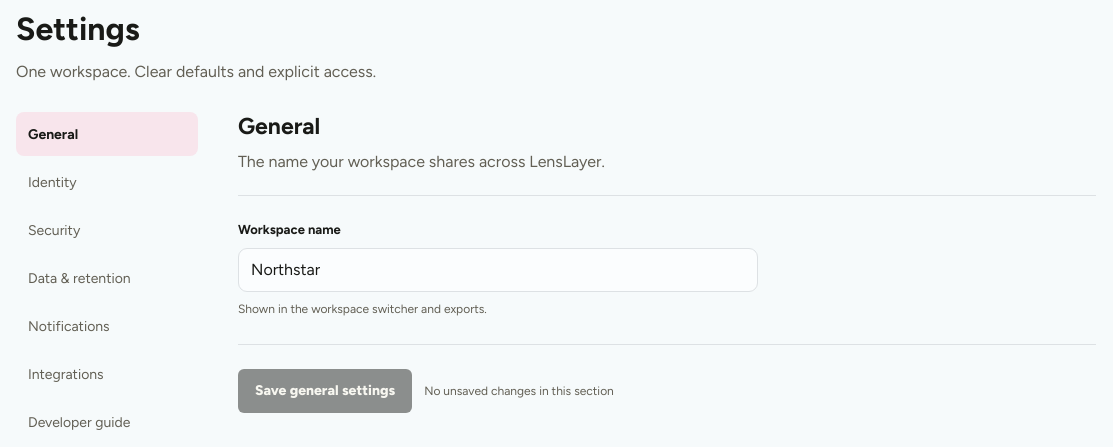
Test: section-scoped drafts and writes › a save response cannot discard a newer edit made while it was pending
Replace the text in the field labelled "Workspace name" with "Submitted" at (498, 270), box [238, 248, 758, 292]
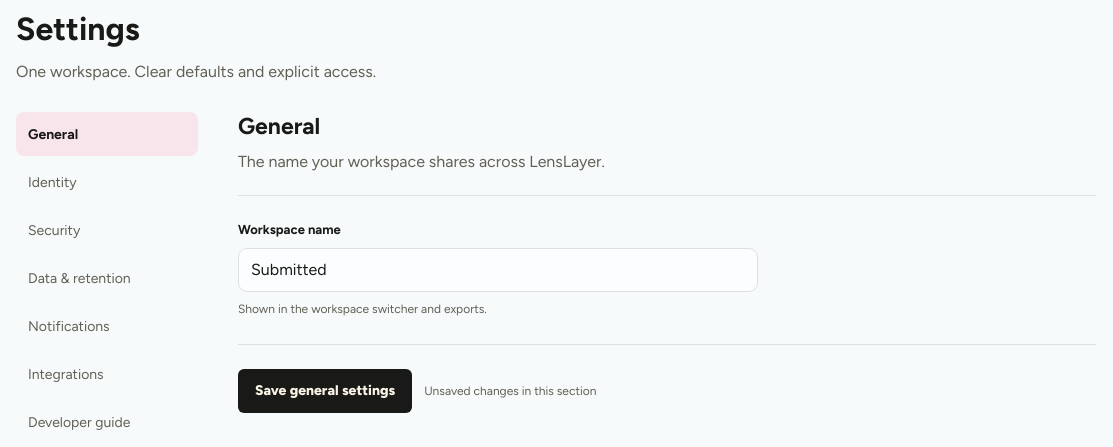
Click the button "Save general settings".
click(325, 391)  # box [238, 369, 412, 413]
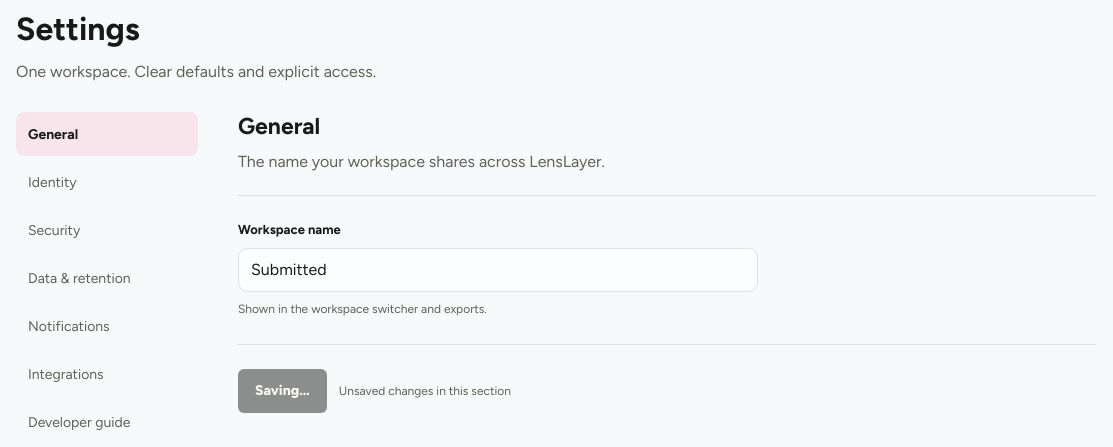
Replace the text in the field labelled "Workspace name" with "Newer unsaved edit" at (498, 270), box [238, 248, 758, 292]
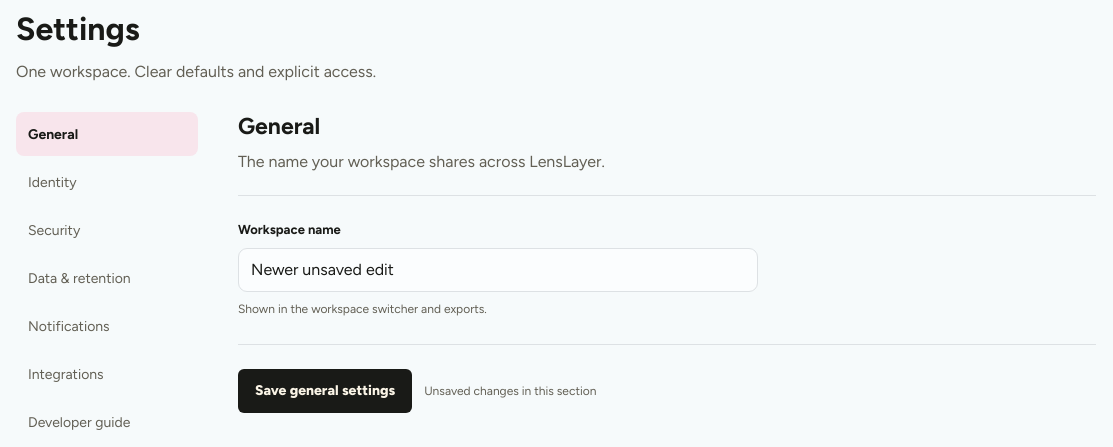
Expected: the button "Save general settings" is enabled, [238, 369, 412, 413]
